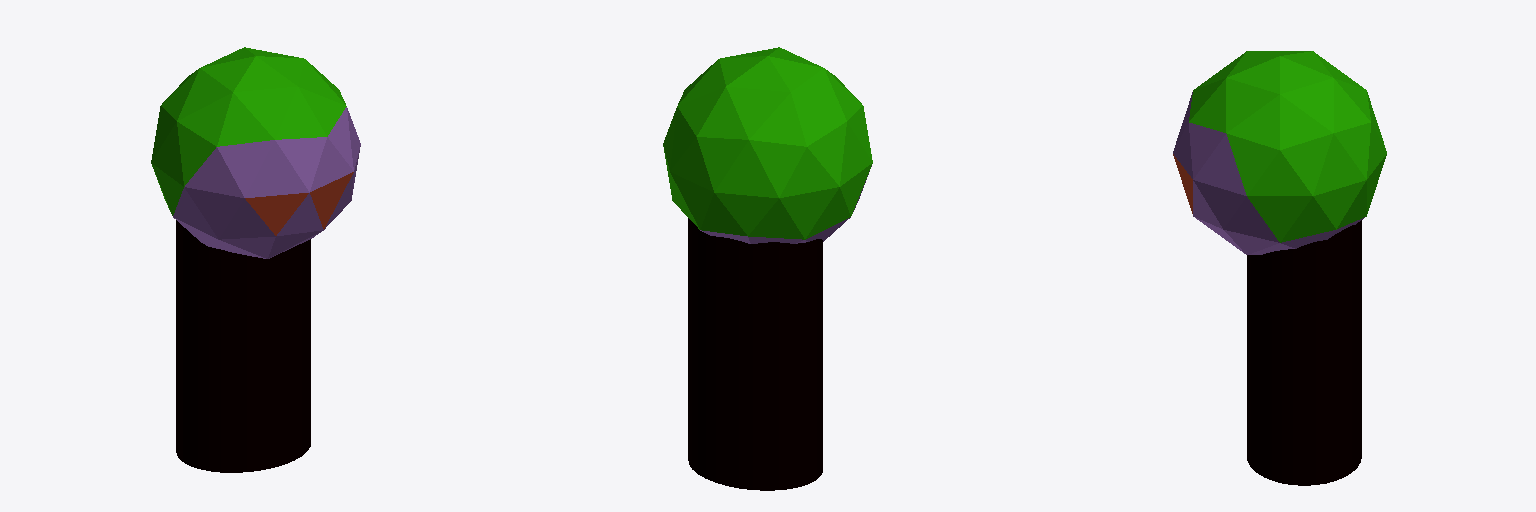
Rendered from ninja.obj.
3 renders of one model, left to right at view 1: azimuth 30°, elevation 25°; view 2: azimuth 150°, elevation 25°; view 3: azimuth 270°, elevation 25°, orthographic.
Parts seen in each view (by area): view 1: head, body; view 2: body, head; view 3: head, body.
Part boxes in pixels (x1,y1,x2,y2): head: (151, 47, 360, 258); body: (176, 220, 310, 472); body: (688, 218, 822, 490); head: (663, 47, 872, 243); head: (1173, 51, 1386, 254); body: (1247, 220, 1361, 485).
Bounding box in the file's own units: 0.3959 × 0.8557 × 0.4162.